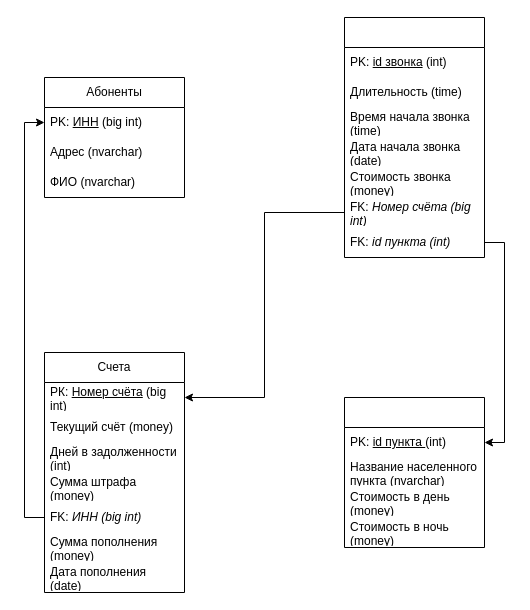
The diagram is 530 pixels wide and 610 high, and some of its shapes have lost their labels. The shapes that lost their labels are listed below. From the top down, each one's box as (x1, y1, x2, y2) in pixels, then its label:
(344, 16, 484, 258): Звонки
(344, 396, 484, 548): Прайсы
